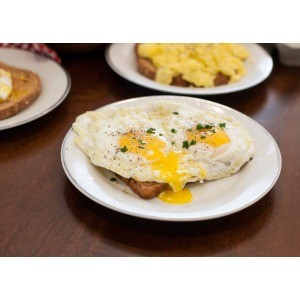egg_brain food: (93, 103, 246, 183), (121, 55, 238, 84)
